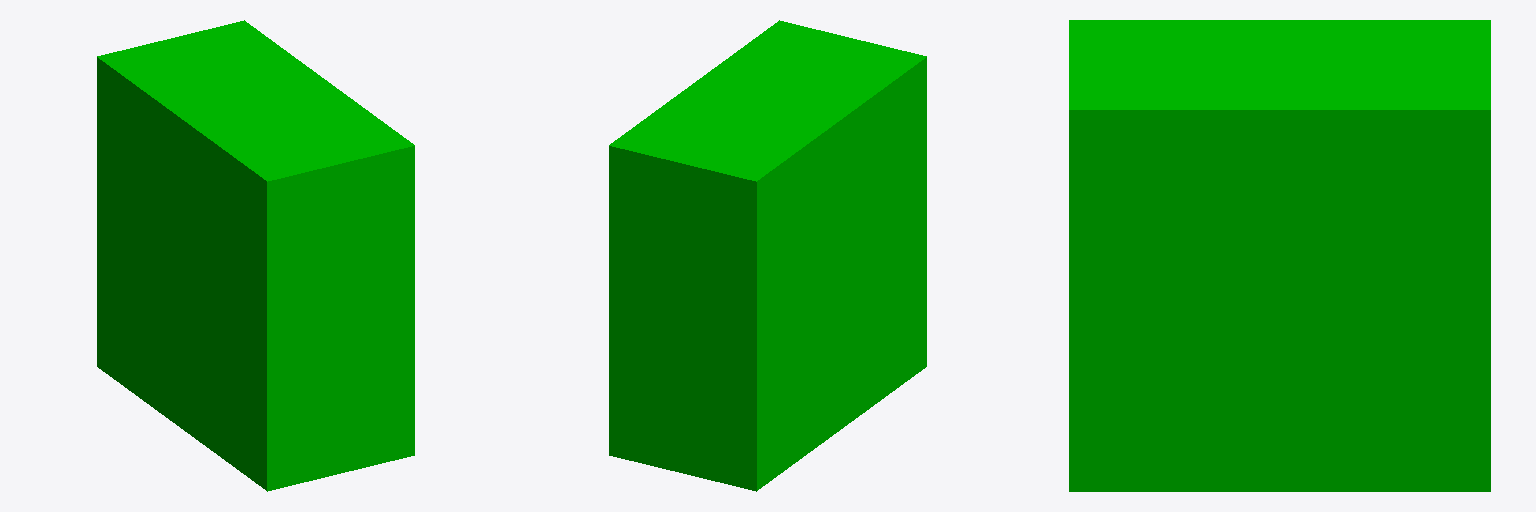
robot.urdf — brick:
<?xml version="1.0"?>
<robot name="brick">

    <material name="green">
        <color rgba="0 0.8 0 1"/>
    </material>

    <link name="link1">
        <visual>
            <geometry>
                <box size="0.1 0.2 0.2"/>
            </geometry>
            <material name="green"/>
        </visual>
        <collision>
            <geometry>
                <box size="0.1 0.2 0.2"/>
            </geometry>
        </collision>
        <inertial>
            <mass value="20" />
            <inertia ixx="1.0" ixy="0.0" ixz="0.0" iyy="1.0" iyz="0.0" izz="1.0" />
          </inertial>
    </link>

</robot>

--- Render facts (derived) ---
The picture shows the robot from 3 angles, left to right: view 1: azimuth 30°, elevation 25°; view 2: azimuth 150°, elevation 25°; view 3: azimuth 270°, elevation 25°; orthographic projection.
Robot: brick — 1 links, 0 joints (none); root link link1; default pose: all joints at 0.
Links seen in each view (by area): view 1: link1; view 2: link1; view 3: link1.
Link boxes in pixels (<box>): link1: <box>97,20,414,491</box>; link1: <box>609,20,926,491</box>; link1: <box>1069,20,1490,491</box>.
Size in the robot's own frame: 0.1 by 0.2 by 0.2 metres.
Geometry: primitives only (box / cylinder / sphere), no mesh files.